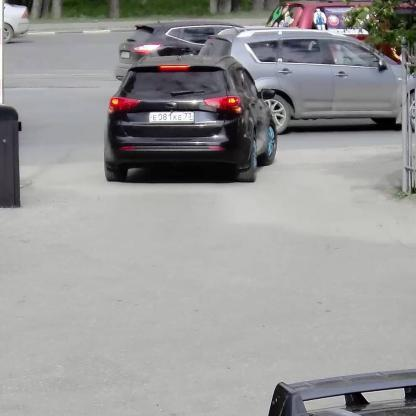plate: (150, 112, 194, 122)
